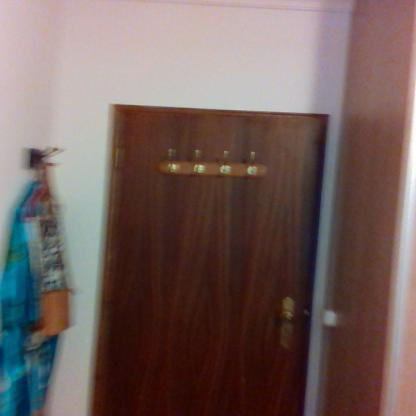door: (98, 108, 309, 416)
hinged: (113, 144, 120, 168)
knob: (279, 309, 297, 325)
